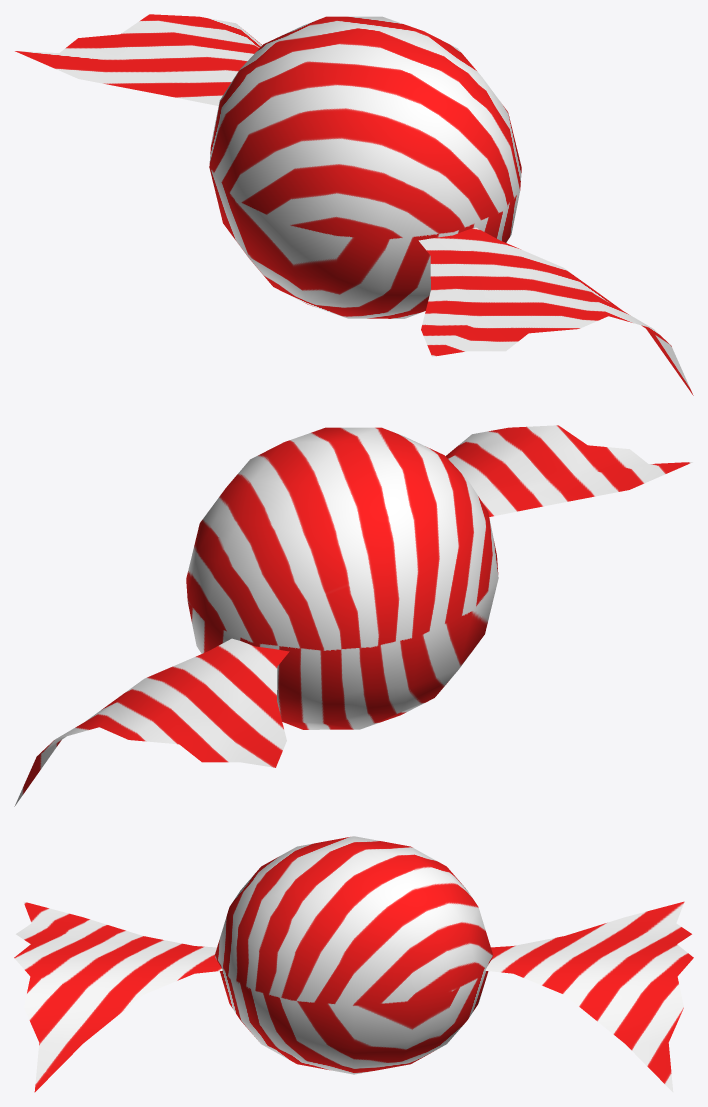
Rendered from hard candy.fbx.
3 views of the same model, one above another, from view 1: azimuth 30°, elevation 25°; view 2: azimuth 150°, elevation 25°; view 3: azimuth 270°, elevation 25° (orthographic). The views are drawn at different scales.
Visible parts, largest first — view 1: sweet; view 2: sweet; view 3: sweet.
Boxes of the visible parts, box(x1,y1,x2,y2) form: sweet: box(15, 14, 693, 395); sweet: box(14, 425, 692, 806); sweet: box(14, 836, 693, 1092).
Size of the model in its own units: 0.0237 by 0.0226 by 0.0646.
1 material, 1 textured.
